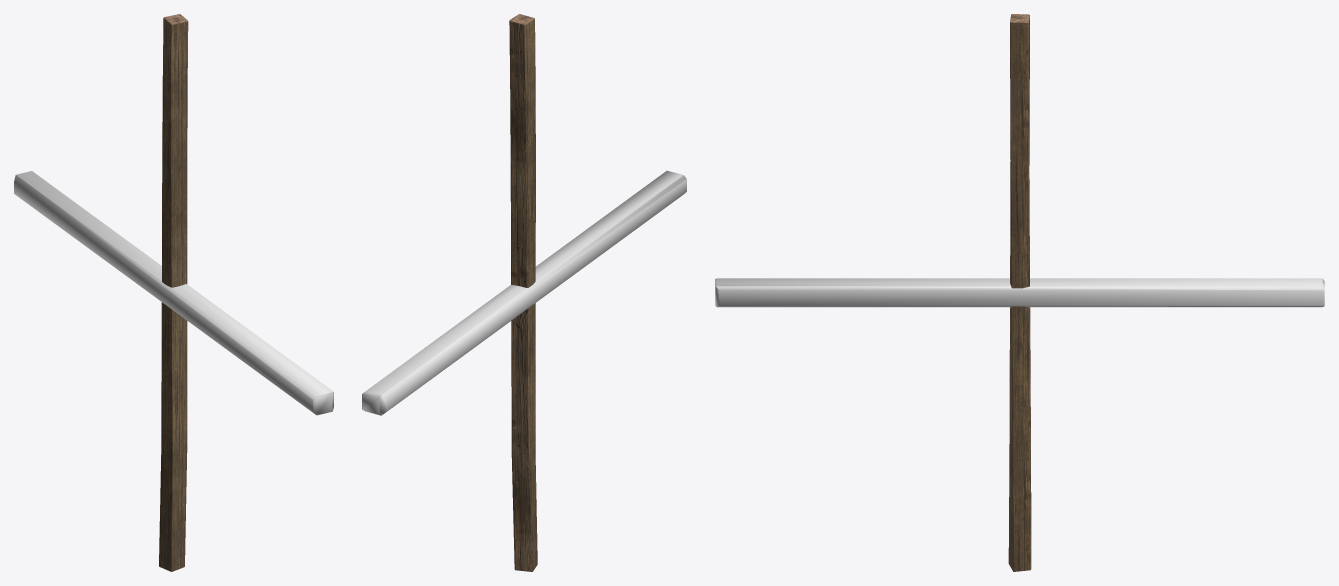
The model's file is SM_Small_Beam_B.fbx.
The picture shows the model from 3 angles, left to right: view 1: azimuth 30°, elevation 25°; view 2: azimuth 150°, elevation 25°; view 3: azimuth 270°, elevation 25°; orthographic projection.
Parts seen in each view (by area): view 1: SM_Small_Beam_B, SM_Small_Beam_B_ConvexHulls; view 2: SM_Small_Beam_B, SM_Small_Beam_B_ConvexHulls; view 3: SM_Small_Beam_B_ConvexHulls, SM_Small_Beam_B.
Boxes of the visible parts, box(x1,y1,x2,y2) form: SM_Small_Beam_B: box(159, 14, 188, 571); SM_Small_Beam_B_ConvexHulls: box(14, 171, 333, 415); SM_Small_Beam_B: box(509, 14, 537, 571); SM_Small_Beam_B_ConvexHulls: box(362, 170, 686, 415); SM_Small_Beam_B_ConvexHulls: box(715, 278, 1324, 307); SM_Small_Beam_B: box(1008, 14, 1031, 571).
Bounding box in the file's own units: 0.1285 × 2.93 × 2.93.
